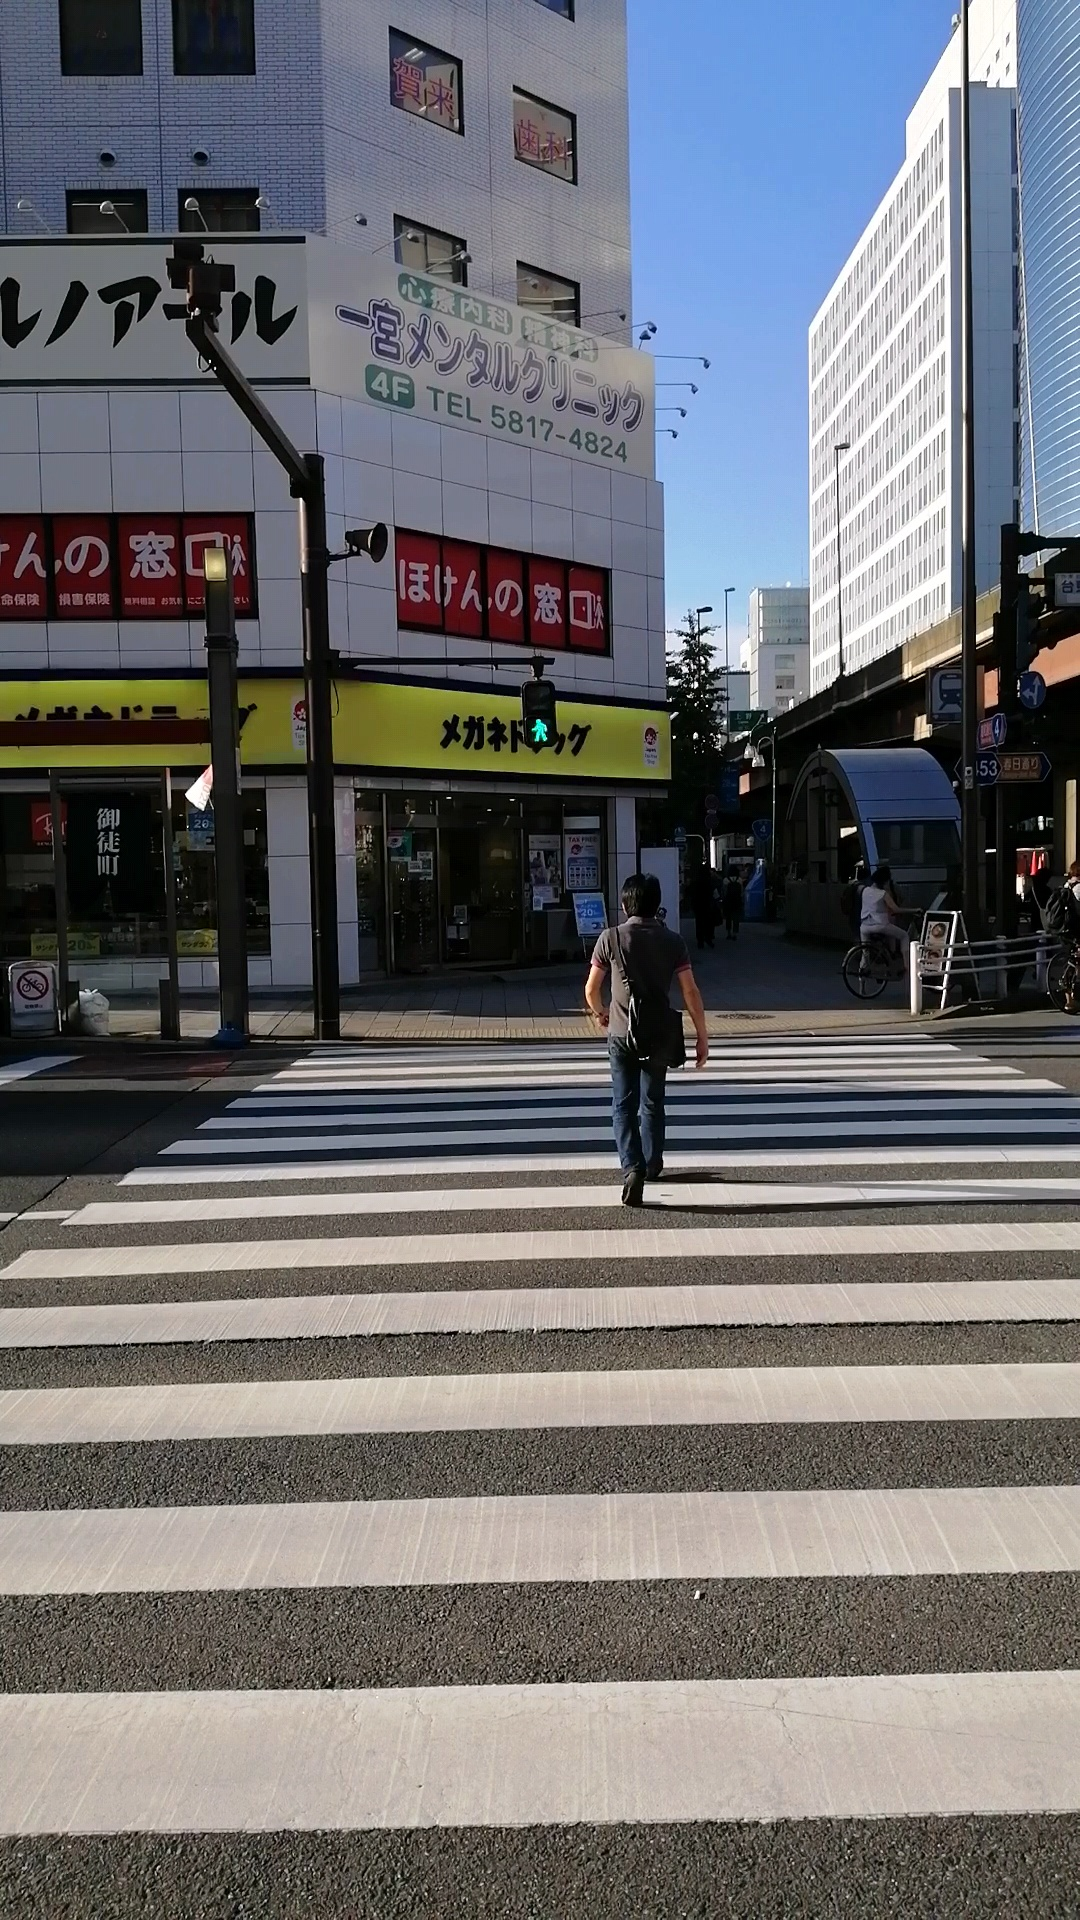green: (520, 679, 558, 748)
